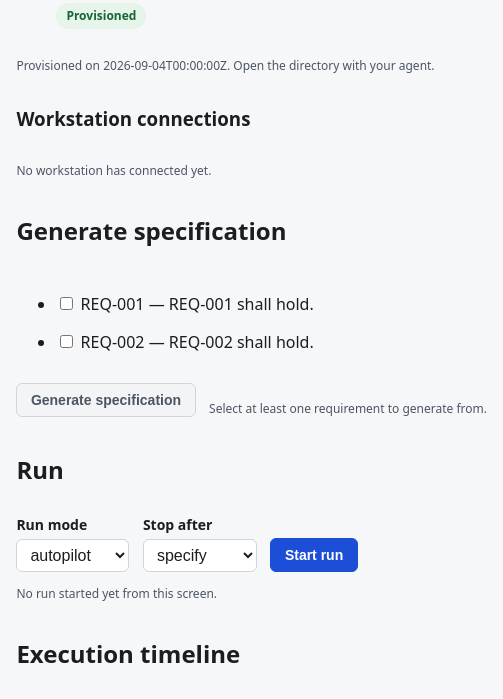
Test: T1375 · Generate specification › shows the refusal body when the API refuses (FR-LPW-042)
The width and height of the screenshot is (503, 699).
(page scrolled)
Click the checkbox labelled "REQ-002 — REQ-002 shall hold.". click: (67, 341)
box: [60,335,73,348]
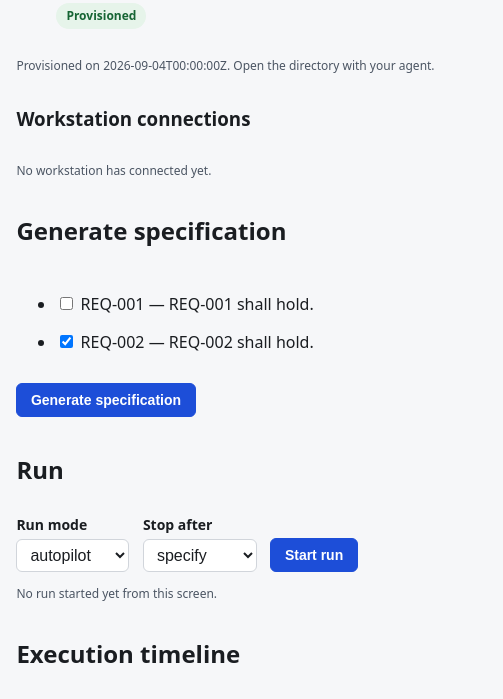
Click the button "Generate specification". click: (106, 400)
box: [16,383,196,417]
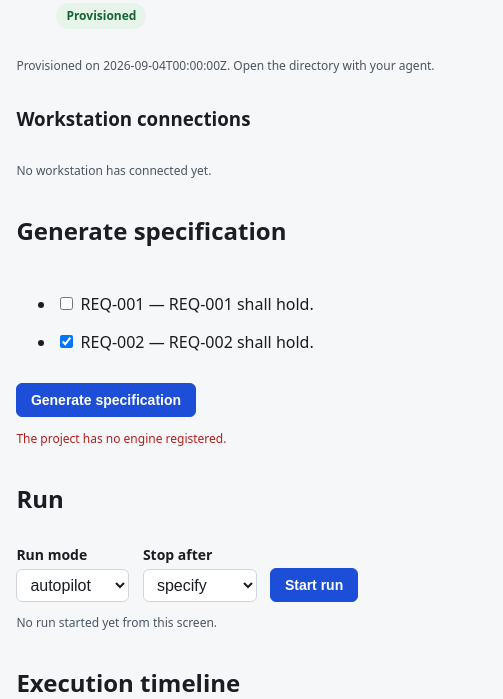
Result: the message "The project has no engine registered." is shown at [16,430,226,447]
